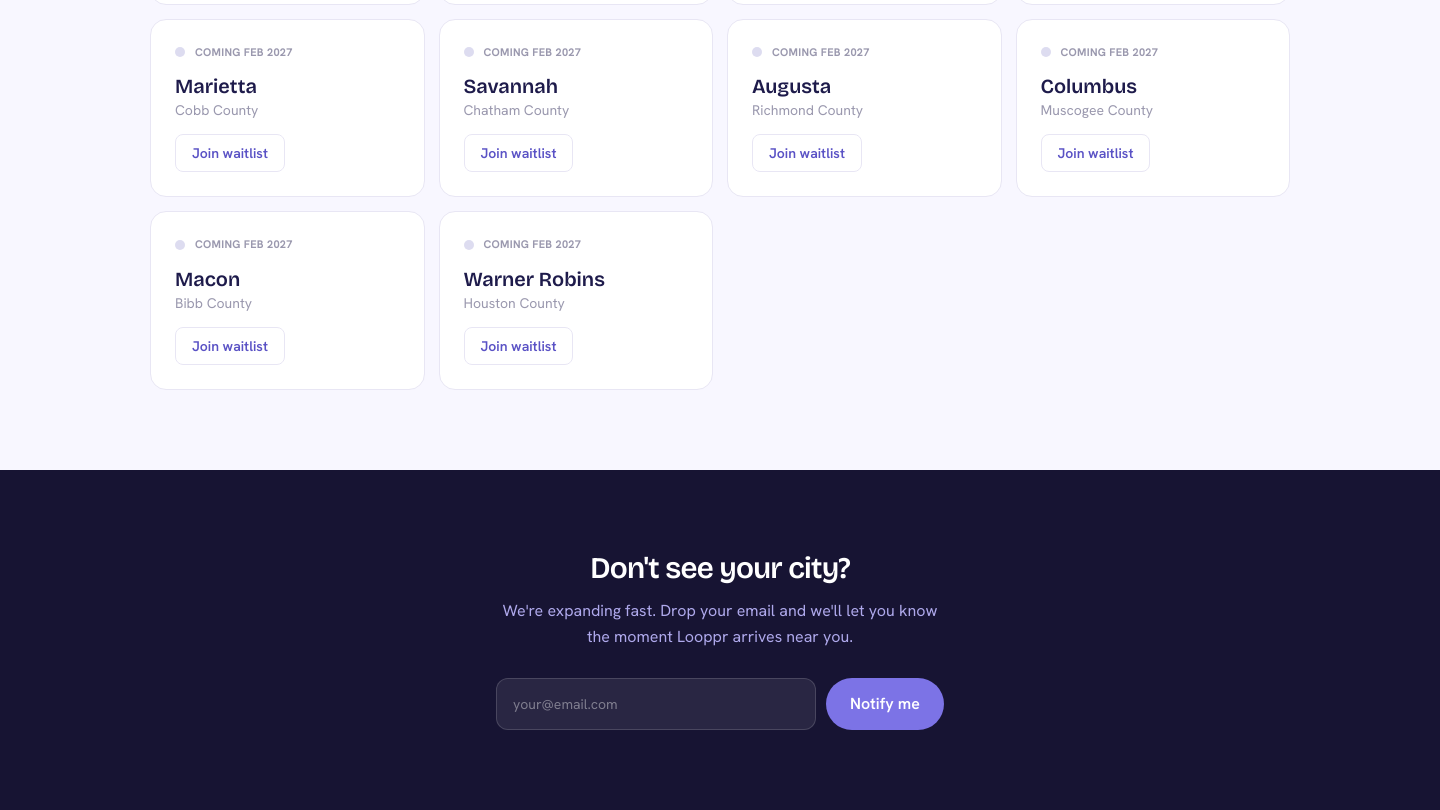
Test: Cities waitlist flow › joins the waitlist from the notify form and shows a confirmation
(page scrolled)
In the field with placeholder "your@email.com": (656, 704) [496,678,816,730], type "test@example.com"
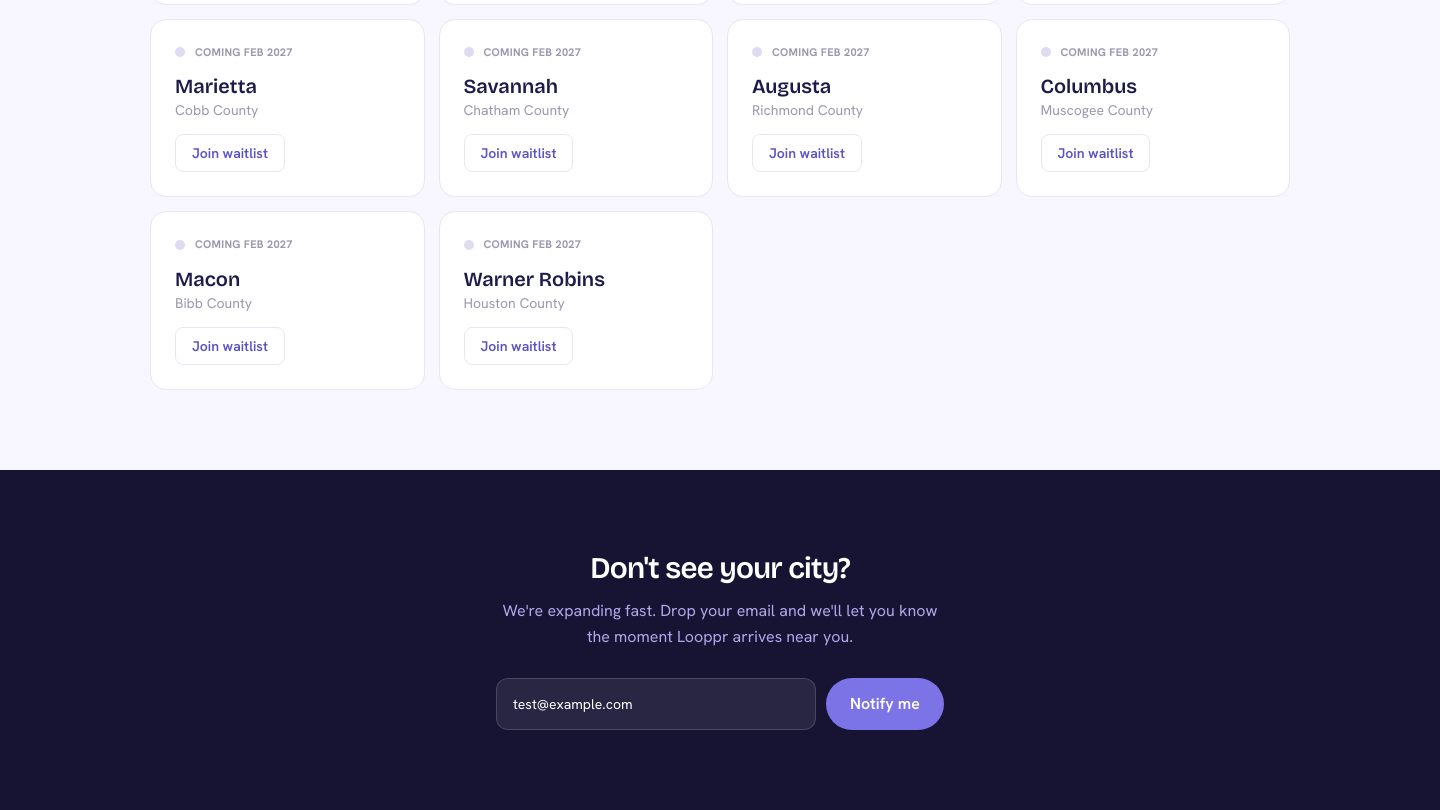
Click the button "Notify me": (885, 704) [826,678,944,730]
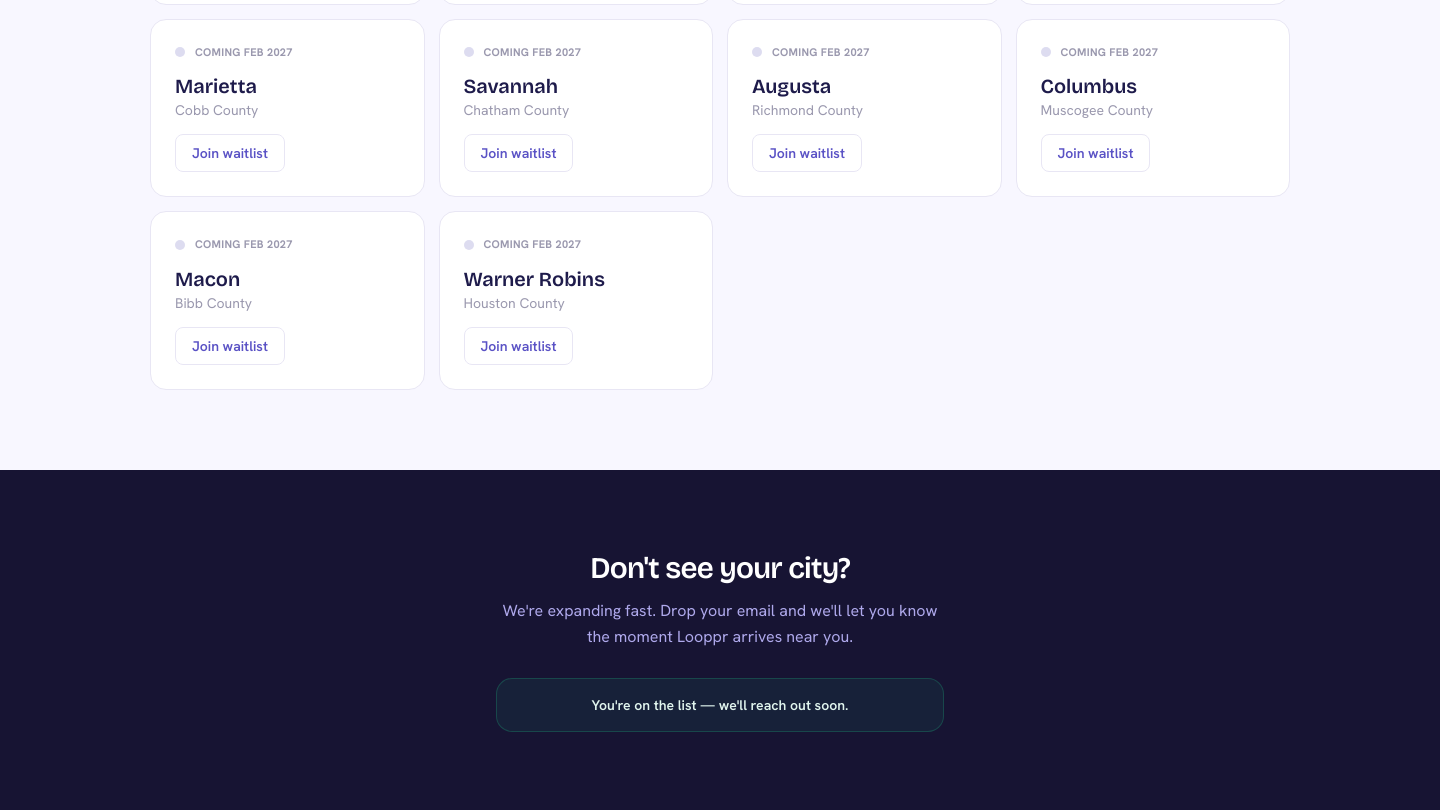
expect the text "You're on the list — we'll reach out soon." is shown: met, box [592,696,848,714]
